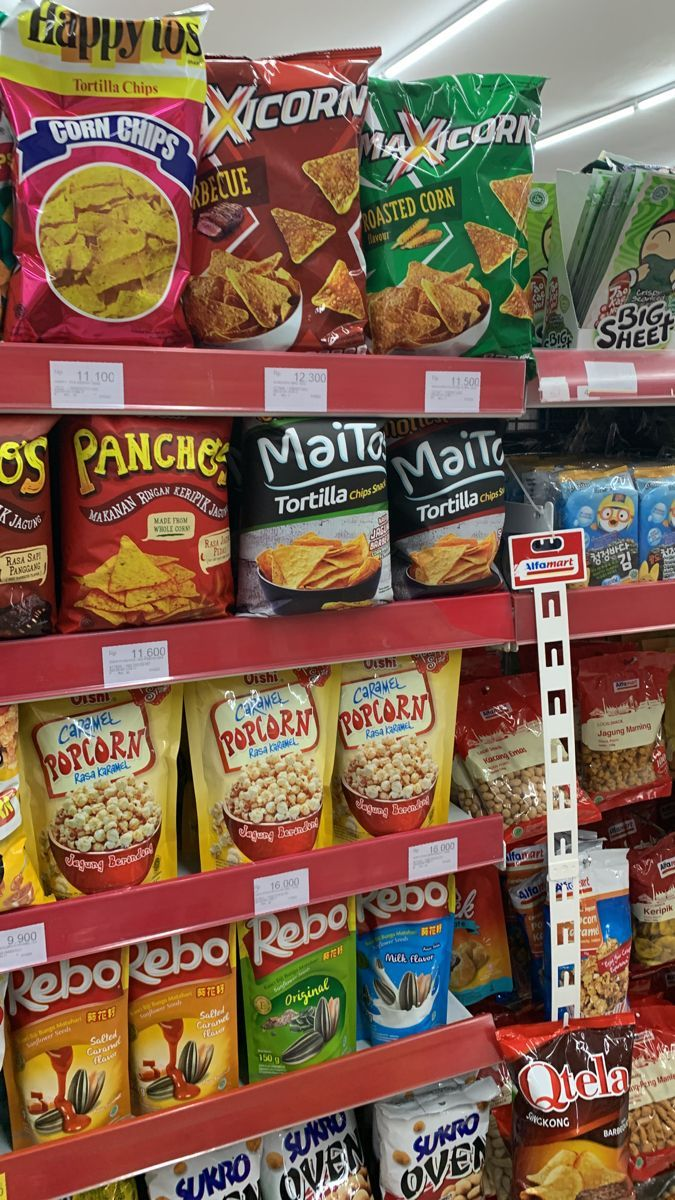Maita Tortilla: (227, 396, 390, 588)
Pop Corn: (179, 663, 327, 854)
Rebo: (232, 895, 360, 1070)
maxicorn: (347, 108, 550, 271)
